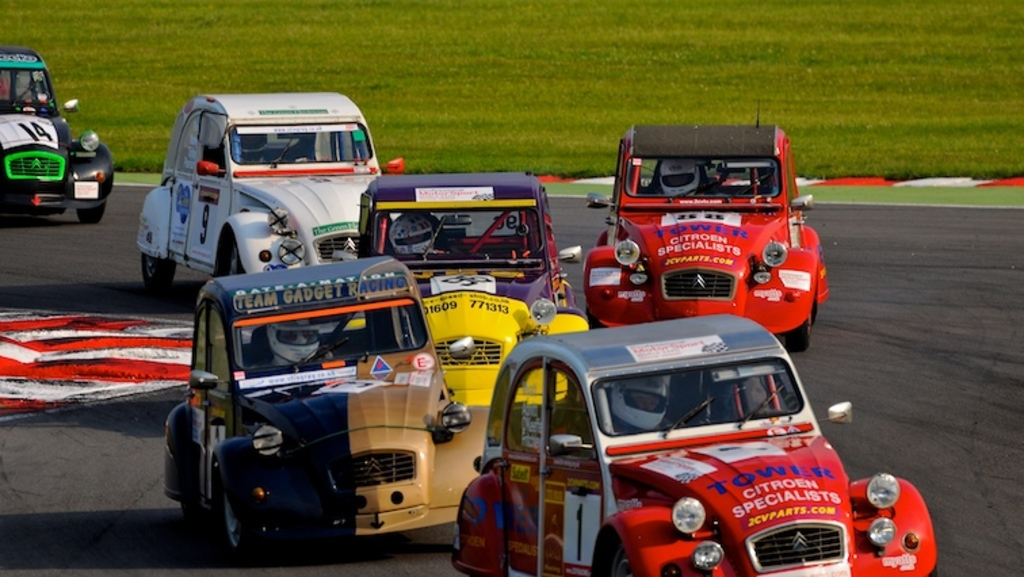Car: (452, 315, 937, 575), (161, 253, 494, 553), (578, 101, 828, 358), (136, 90, 404, 293), (357, 172, 586, 407), (0, 47, 115, 223)
